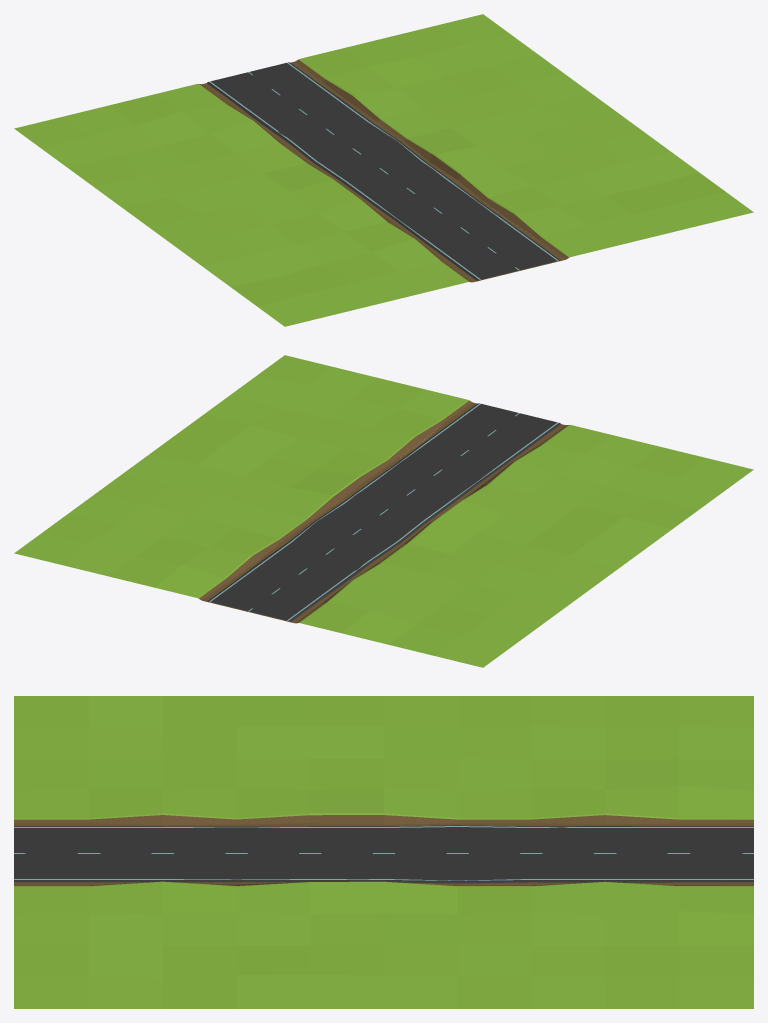
Rendered from model_road_grass_straight_01.fbx.
3 renders of one model, top to bottom at view 1: azimuth 30°, elevation 25°; view 2: azimuth 150°, elevation 25°; view 3: azimuth 270°, elevation 25°, orthographic. The views are drawn at different scales.
Visible parts, largest first — view 1: model_road_grass_straight_01; view 2: model_road_grass_straight_01; view 3: model_road_grass_straight_01.
Part boxes in pixels (x1,y1,x2,y2): model_road_grass_straight_01: [14, 14, 753, 326]; model_road_grass_straight_01: [14, 355, 753, 667]; model_road_grass_straight_01: [14, 696, 753, 1008].
Bounding box in the file's own units: 6161 × 62.78 × 6161.
1 material, 1 textured.
